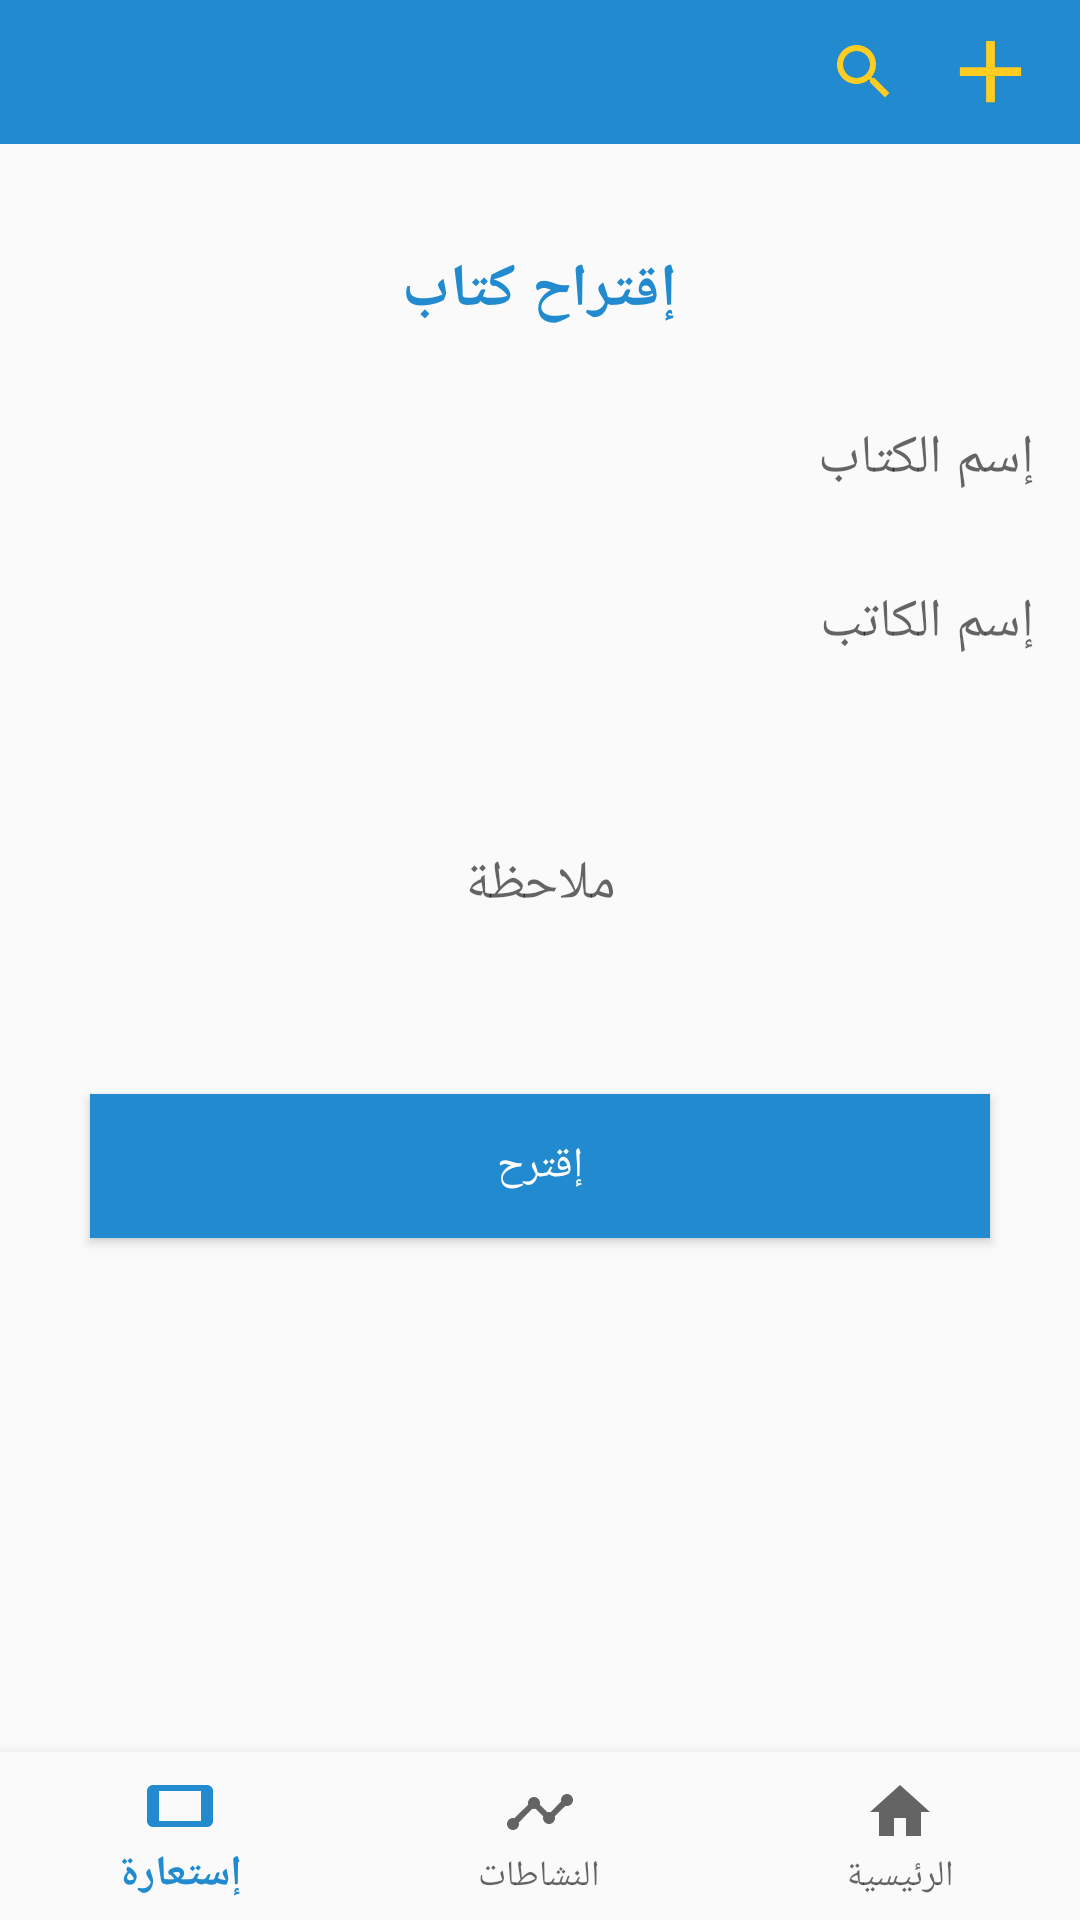

Named icons in this screenshot (1080px×1920px) and their centers, point (x, y):
add: point (990, 72)
search: point (863, 71)
